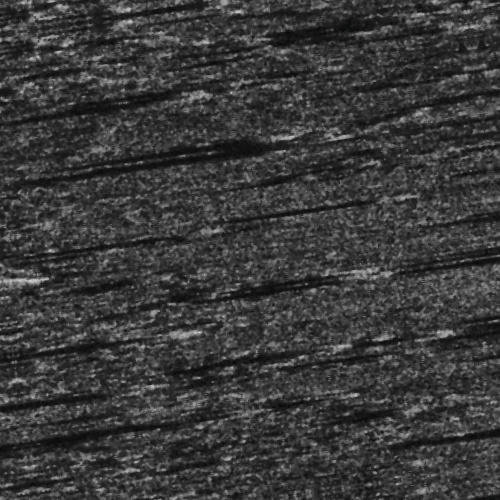object: (303, 270, 396, 313), (297, 270, 412, 297), (222, 70, 315, 87), (340, 363, 413, 376), (85, 314, 190, 323), (296, 346, 327, 365), (177, 217, 218, 228), (274, 135, 337, 142), (80, 366, 153, 371), (112, 40, 153, 45), (328, 145, 359, 150), (486, 52, 500, 61), (377, 215, 408, 218), (263, 7, 284, 10)
shadow: (127, 270, 349, 313), (206, 270, 354, 297), (110, 70, 269, 87), (35, 135, 305, 142), (39, 217, 197, 228), (268, 363, 376, 376), (0, 314, 137, 323), (379, 359, 500, 368), (394, 52, 500, 61), (396, 124, 500, 131), (274, 346, 311, 365), (0, 366, 116, 371), (406, 283, 500, 288), (247, 215, 392, 218), (47, 40, 132, 45), (194, 7, 274, 10), (462, 457, 500, 462), (306, 145, 343, 150), (28, 86, 192, 87), (484, 344, 500, 353), (482, 308, 500, 313)
